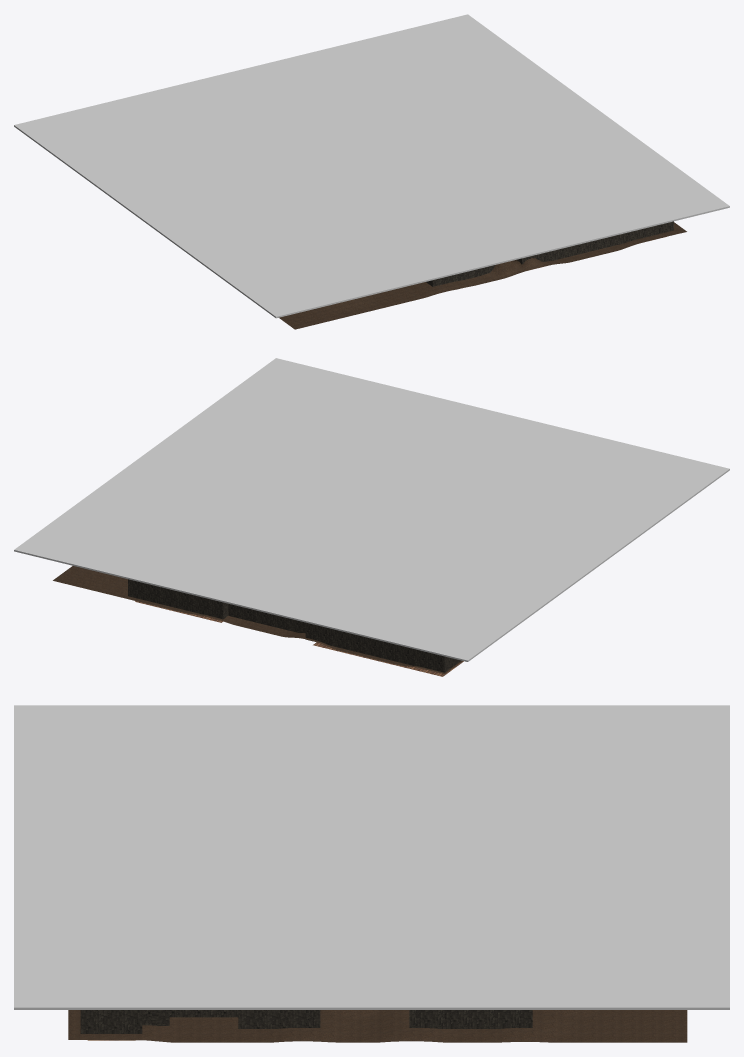
File: newmazefinaldesign.fbx
The picture shows the model from 3 angles, top to bottom: view 1: azimuth 30°, elevation 25°; view 2: azimuth 150°, elevation 25°; view 3: azimuth 270°, elevation 25°; orthographic projection. The views are drawn at different scales.
Visible parts, largest first — view 1: Ceiling, Dirt.001, Walls.001; view 2: Ceiling, Walls.001, Dirt.001, Floor.000; view 3: Ceiling, Dirt.001, Walls.001.
Boxes of the visible parts, <box> form: Ceiling: <box>14,14,729,318</box>; Dirt.001: <box>279,222,686,329</box>; Walls.001: <box>426,221,673,286</box>; Ceiling: <box>14,358,729,661</box>; Walls.001: <box>128,579,461,672</box>; Dirt.001: <box>53,566,463,673</box>; Floor.000: <box>135,601,463,676</box>; Ceiling: <box>14,705,729,1009</box>; Dirt.001: <box>68,1010,687,1042</box>; Walls.001: <box>80,1010,532,1033</box>.
Size of the model in its own units: 8261 by 724 by 8261.
